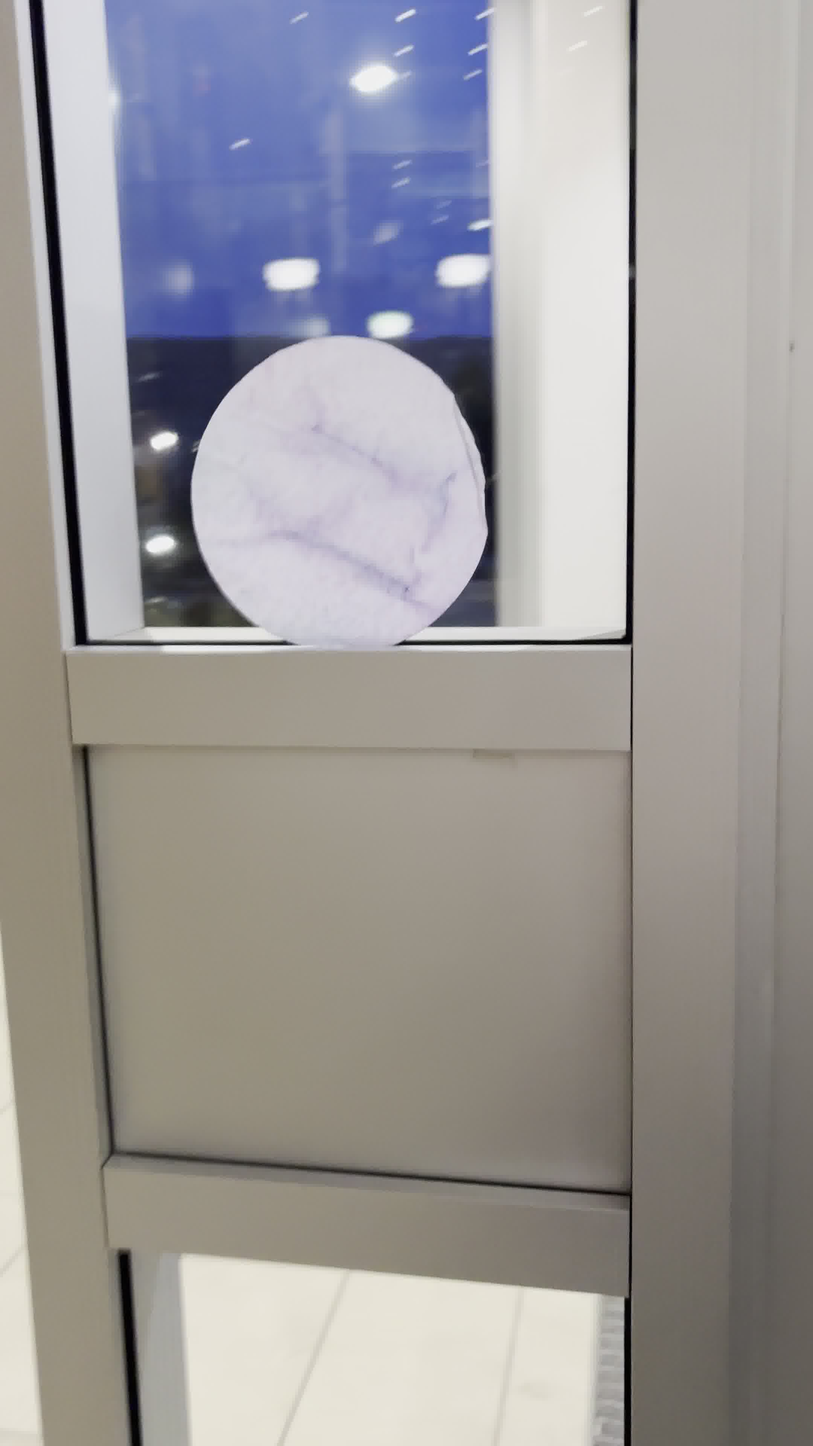Target: (185, 333, 491, 656)
